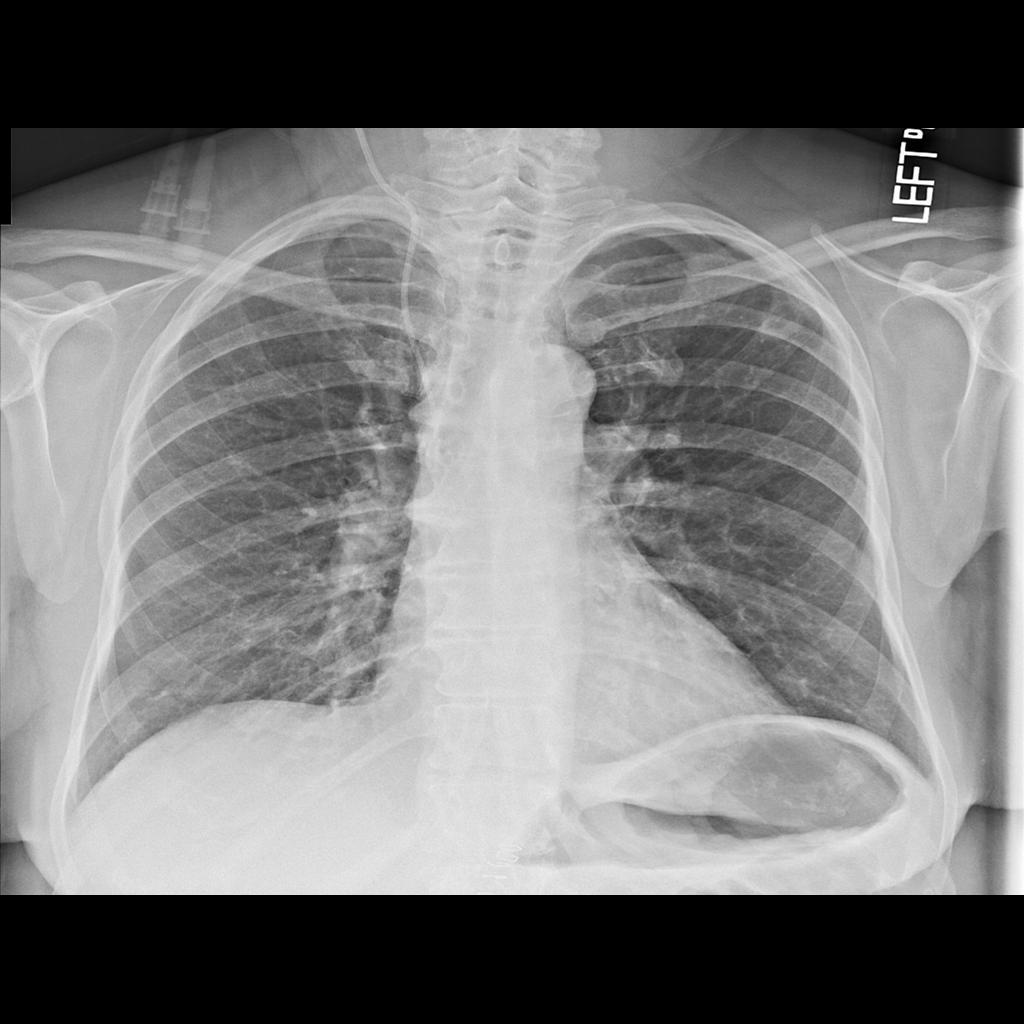Nodule: (758, 296, 812, 344)
